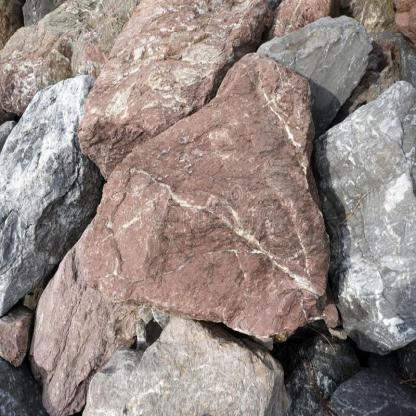Sedimentary_Limestone: (84, 48, 341, 356)
